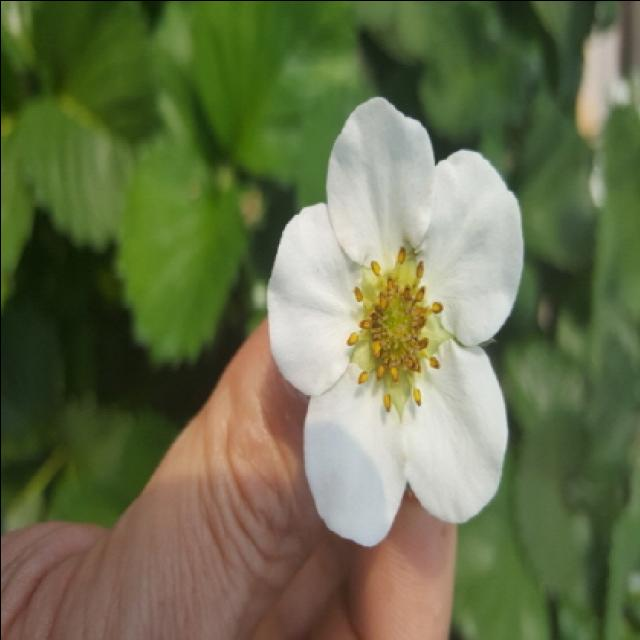Blossom Blight: (339, 248, 455, 421)
